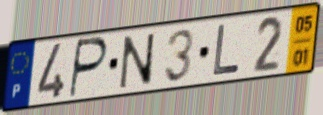2: (252, 14, 285, 74)
3: (164, 28, 196, 83)
4: (34, 40, 67, 101)
L: (211, 22, 242, 79)
N: (118, 32, 156, 91)
P: (67, 35, 110, 101)
